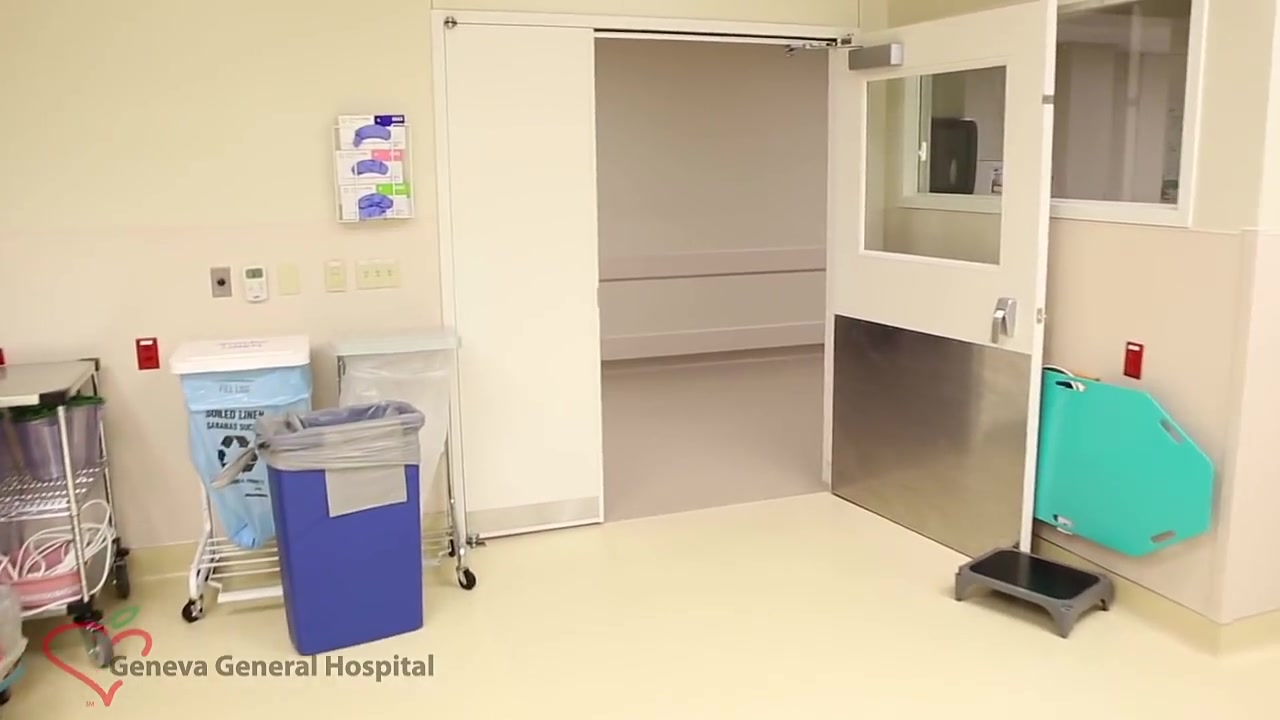dispenser: (331, 113, 414, 222)
door_handle: (986, 308, 1006, 347)
light_switch: (356, 258, 401, 289)
utility_cart: (1, 355, 126, 672)
waste_bin: (248, 398, 450, 660), (175, 335, 313, 619), (331, 329, 477, 591)
